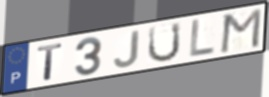3: (73, 35, 103, 77)
J: (112, 28, 141, 69)
L: (188, 18, 217, 59)
M: (218, 6, 264, 55)
T: (35, 41, 65, 82)
U: (146, 20, 183, 64)
